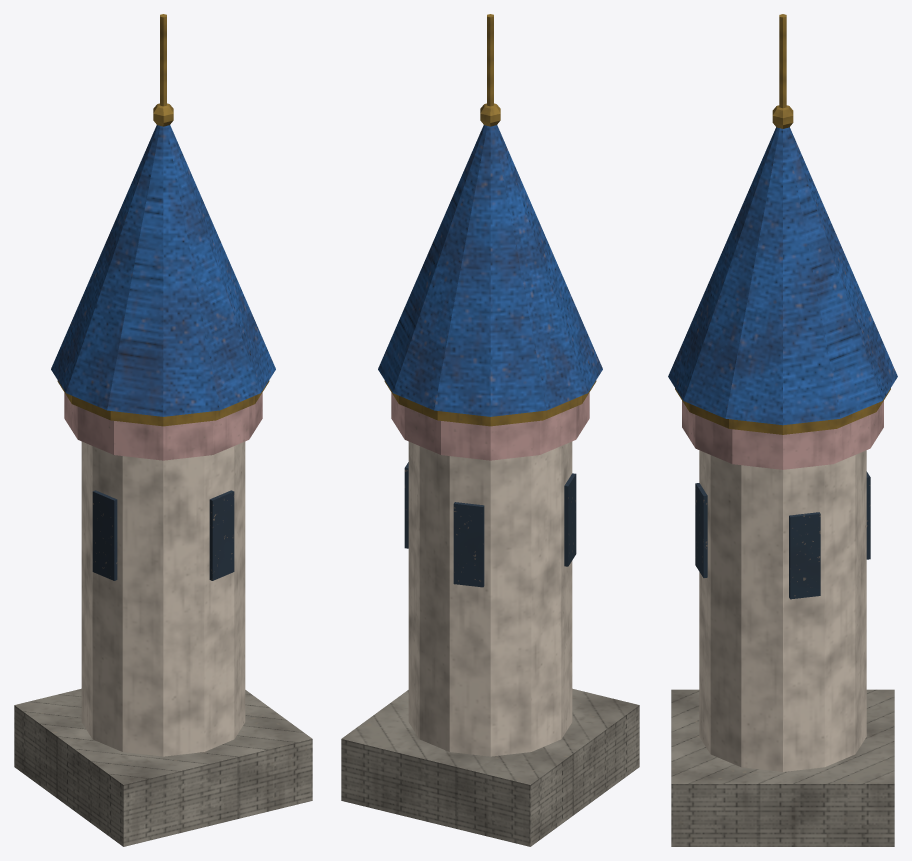
The model's file is Prop_ConeTurret_Small.fbx.
3 renders of one model, left to right at view 1: azimuth 30°, elevation 25°; view 2: azimuth 150°, elevation 25°; view 3: azimuth 270°, elevation 25°, orthographic. The views are drawn at different scales.
Parts seen in each view (by area): view 1: ConeTurret_Small_Mesh; view 2: ConeTurret_Small_Mesh; view 3: ConeTurret_Small_Mesh.
Boxes of the visible parts, x1,y1,x2,y2 form: ConeTurret_Small_Mesh: (14, 14, 312, 846); ConeTurret_Small_Mesh: (341, 14, 639, 846); ConeTurret_Small_Mesh: (668, 14, 897, 846).
Bounding box in the file's own units: 3.3 × 12.41 × 3.3.
